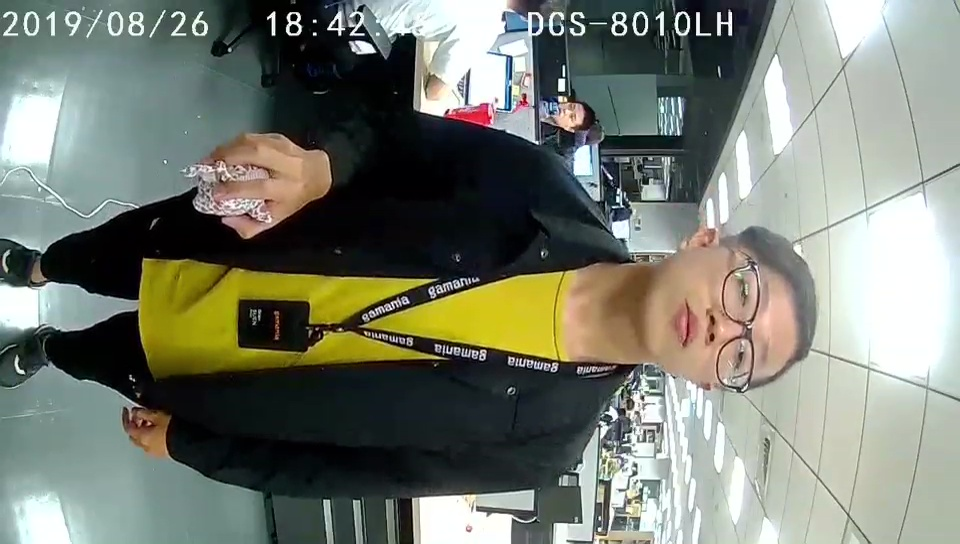pig: (181, 160, 272, 224)
